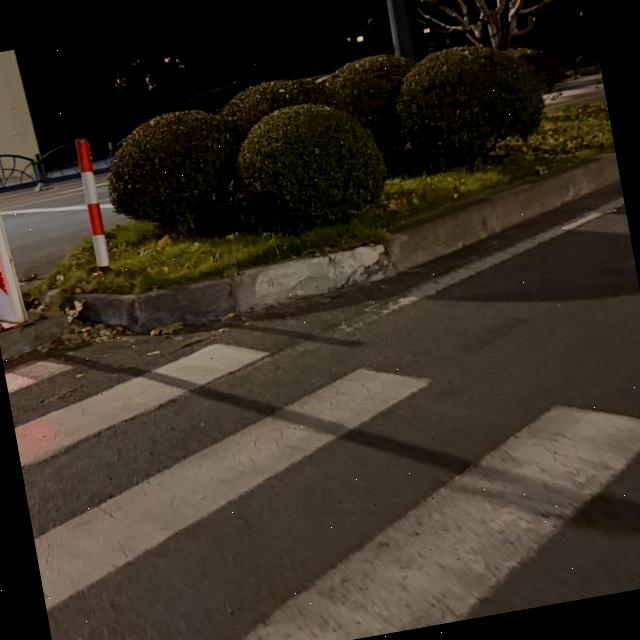curb: (77, 152, 619, 333)
